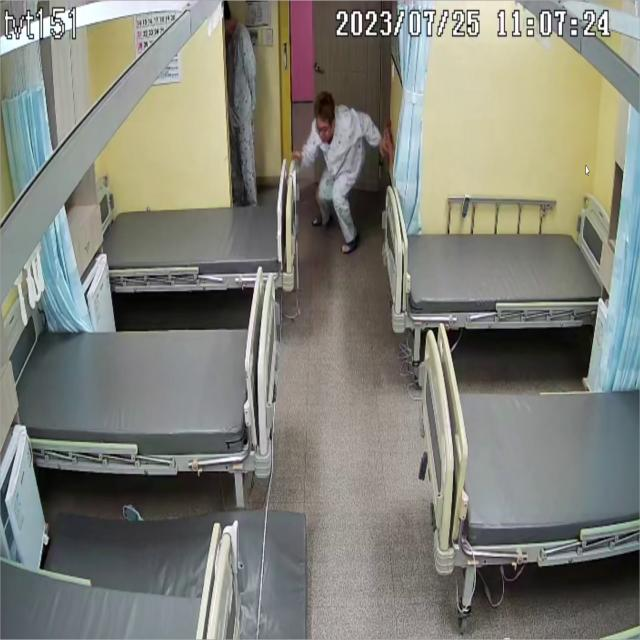bed: (420, 324, 640, 569), (14, 318, 278, 470), (382, 213, 616, 332), (105, 192, 294, 290)
danger: (300, 99, 389, 251)
patient: (301, 98, 388, 248), (222, 0, 260, 205)
